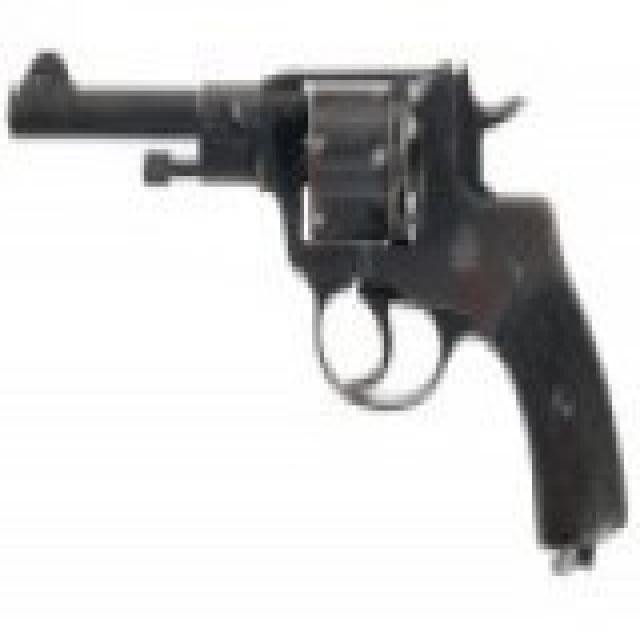Gun: (16, 30, 627, 545)
